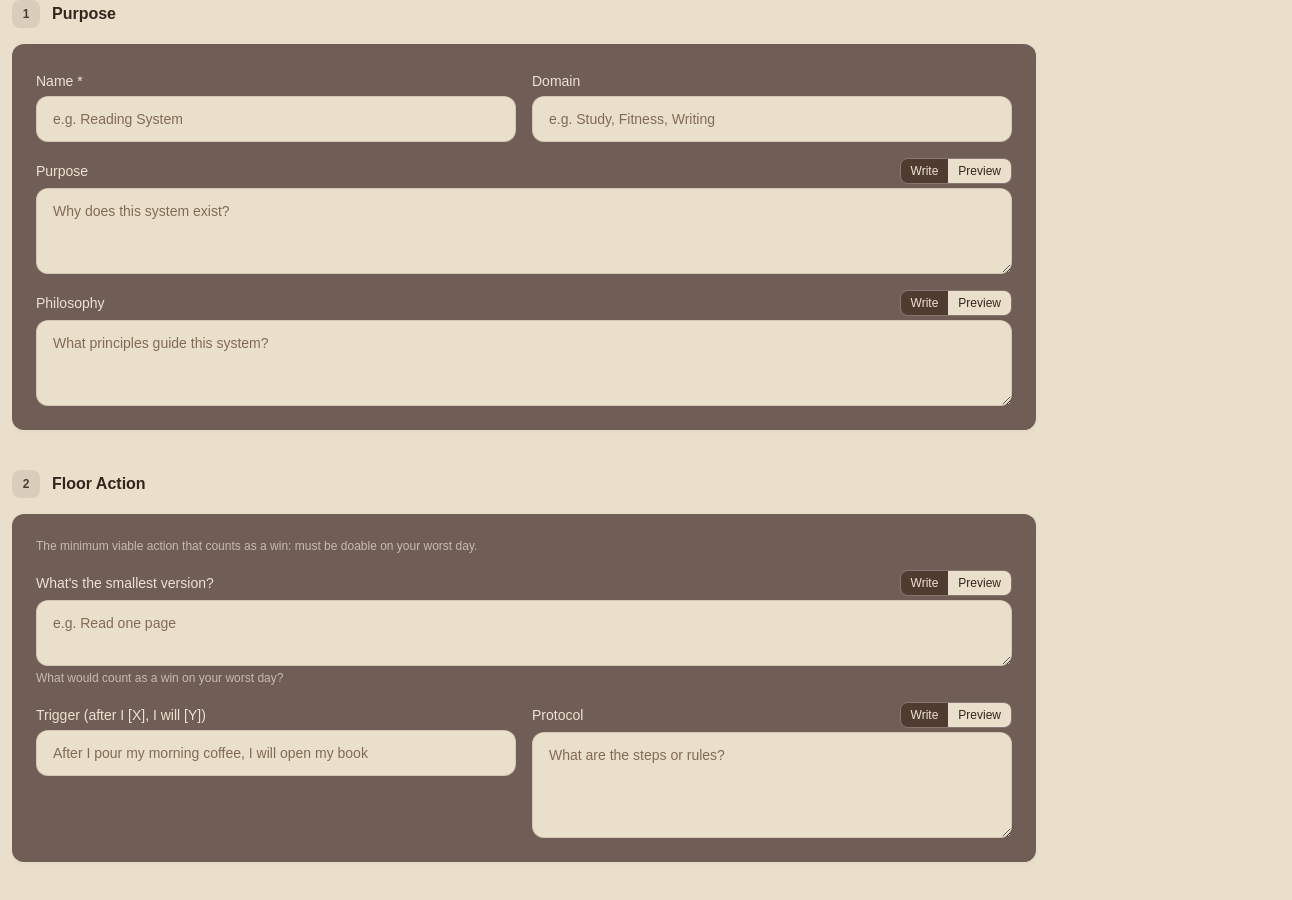
Test: SystemForm validation › submit button is enabled when name is filled
Type "Reading System" into the field labelled "Name *". click: (276, 119)
box: x1=36 y1=96 x2=516 y2=142
(page scrolled)
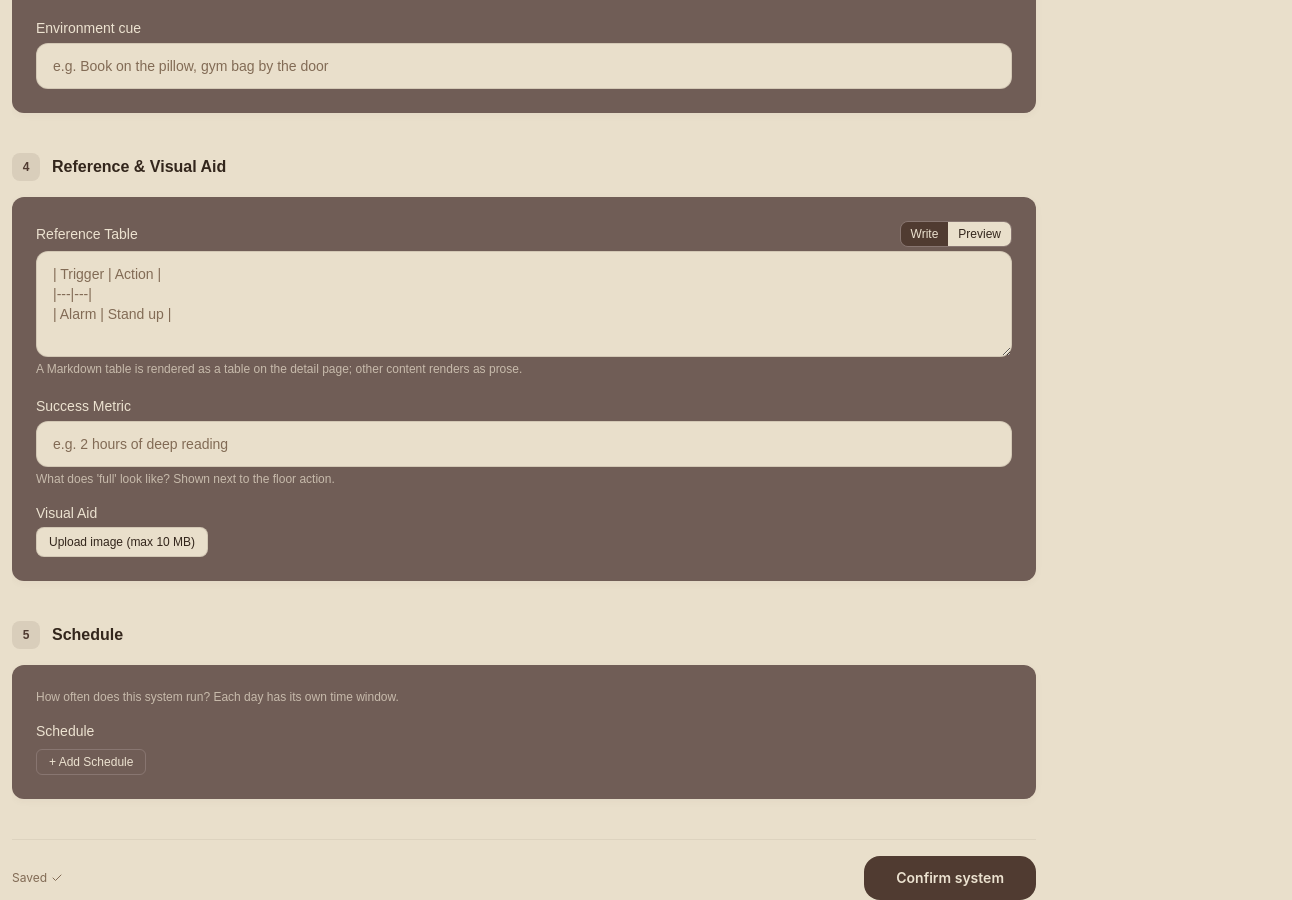
Now the button "Confirm system" is enabled, box x1=864 y1=856 x2=1036 y2=899
